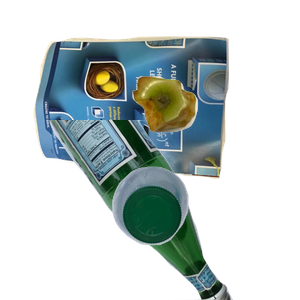glass: (37, 120, 262, 300)
paper: (31, 34, 252, 205)
plastic: (110, 164, 300, 300)
trash: (130, 74, 300, 199)
